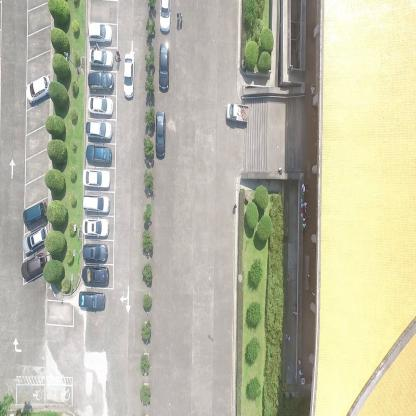car: (22, 222, 48, 255), (20, 251, 47, 282), (25, 73, 50, 106), (22, 198, 48, 228), (84, 119, 113, 141), (158, 41, 170, 92), (87, 22, 113, 45), (85, 144, 112, 166), (82, 194, 110, 215), (81, 266, 110, 286), (225, 100, 249, 124), (122, 51, 134, 99), (88, 96, 114, 118), (87, 72, 114, 93), (82, 169, 110, 189), (82, 218, 110, 238), (81, 243, 109, 263), (78, 291, 106, 311), (155, 111, 166, 159), (88, 49, 114, 68), (159, 0, 171, 33)
